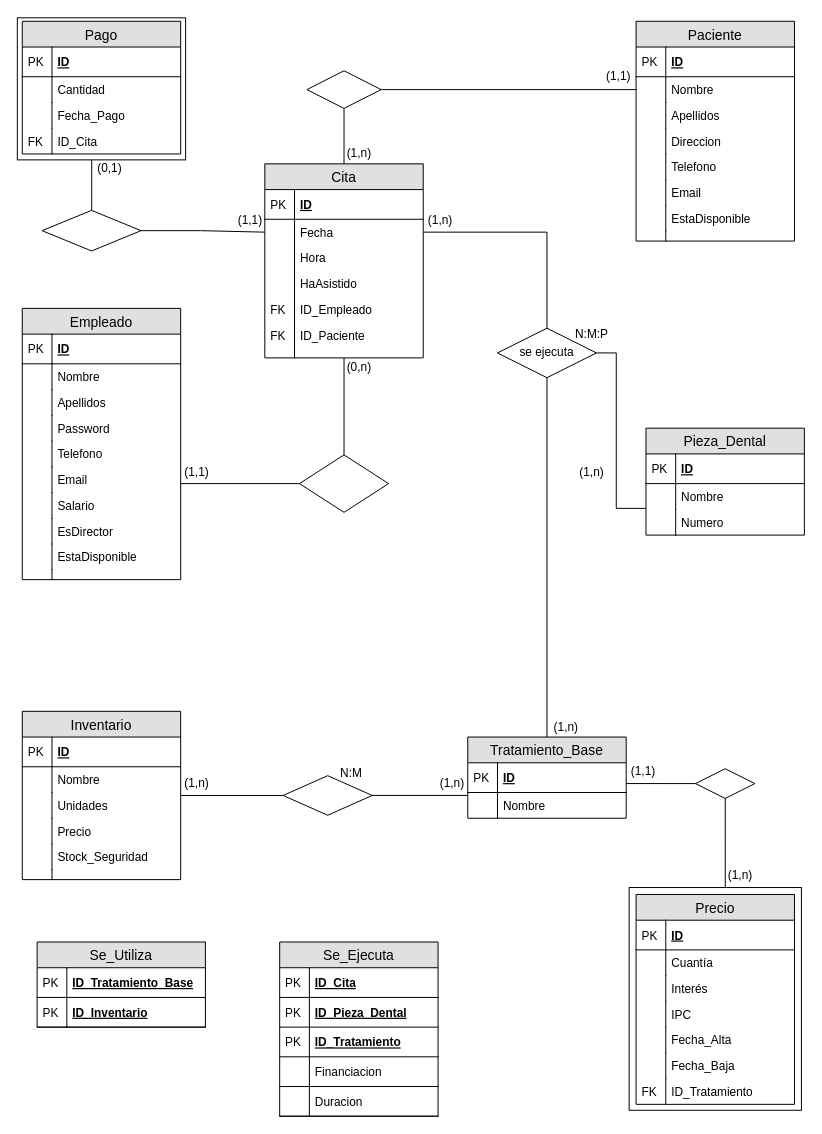
This 822x1134 diagram has some shape labels left out. The centre of each missing label's shape, as x and y in pixels:
"administra" goes at (343,483).
"asiste" goes at (343,89).
"se efectúa" goes at (91,230).
"se utiliza" goes at (327,795).
"tiene" goes at (724,783).
